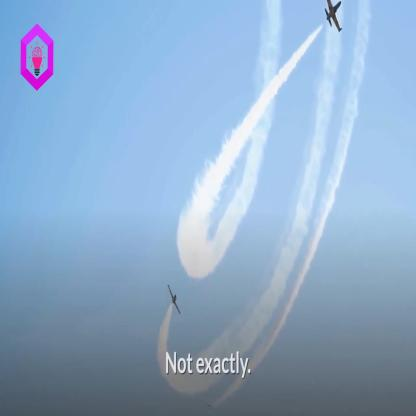plane: (321, 0, 345, 35), (167, 279, 186, 323)
